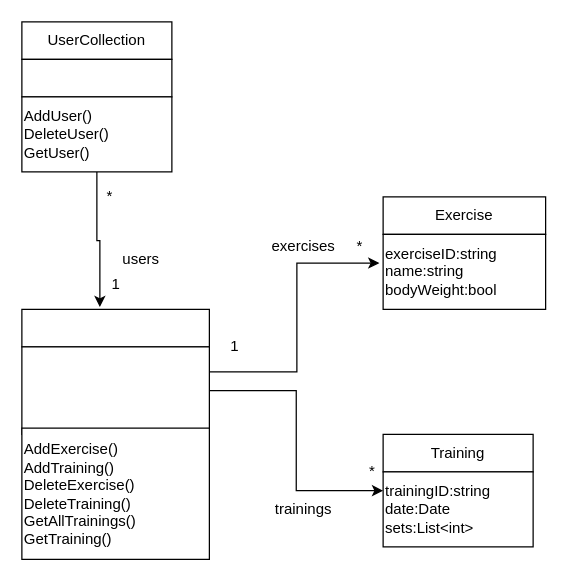
This 568x581 diagram has some shape labels left out. Here are the shapes that lost their labels. From the top down, the centre of each, then its label:
At point (115, 327): "User".
At point (115, 390): "name:string userID:string password:string".
